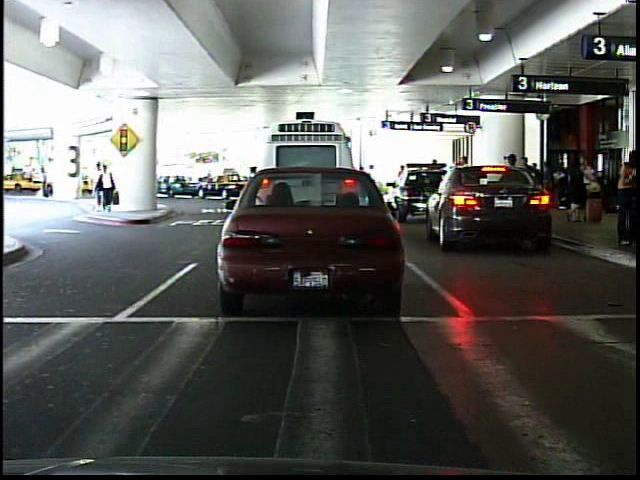person: (88, 157, 123, 214), (40, 164, 55, 203)
